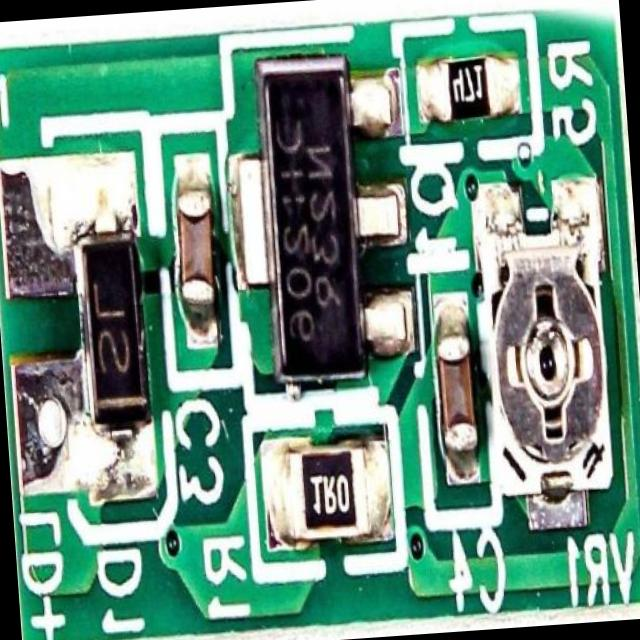IC: (242, 51, 402, 386)
capacitor: (168, 174, 218, 332), (436, 316, 478, 458)
diode: (74, 207, 165, 436)
potentiometer: (479, 183, 628, 497)
resistor: (266, 434, 384, 541), (425, 51, 504, 122)
